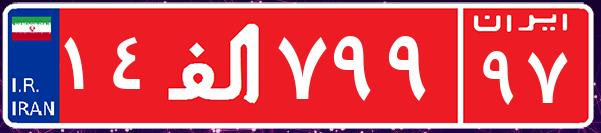1: (57, 26, 110, 107)
4: (110, 28, 158, 105)
7: (273, 28, 330, 110), (525, 38, 570, 115)
9: (385, 28, 445, 110), (330, 28, 385, 110), (475, 38, 525, 113)
الف: (158, 15, 273, 115)
